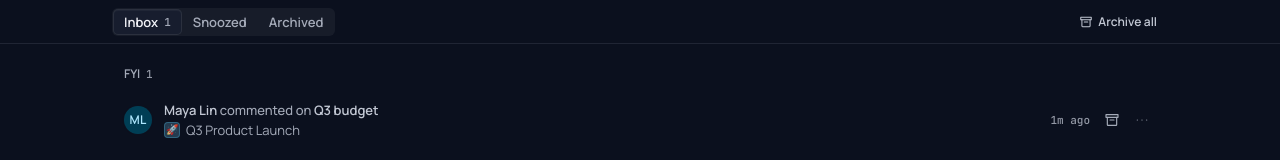
InboxView — archive all › can be cancelled with Escape
Click the button "Archive all" at x=1118, y=22, box top-left (1068, 8), bottom-right (1168, 36)
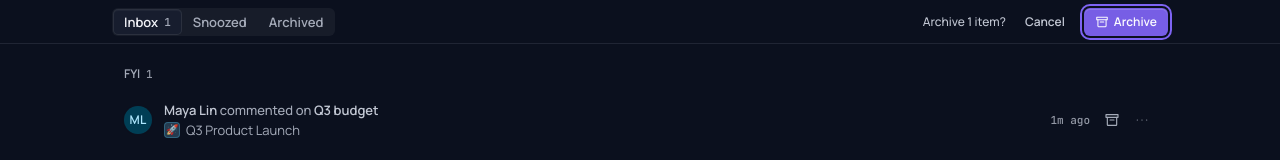
Press Escape in the button "Archive", box top-left (1084, 8), bottom-right (1168, 36)
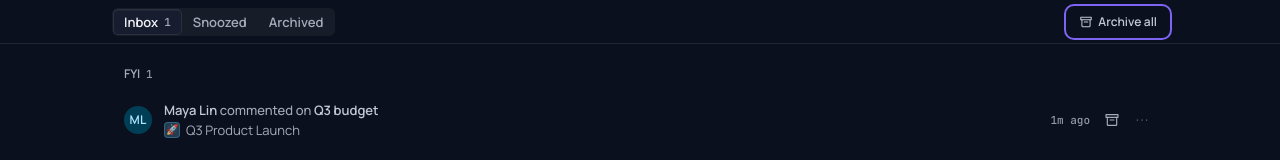
Check: the button "Archive all" is shown, box top-left (1068, 8), bottom-right (1168, 36)
